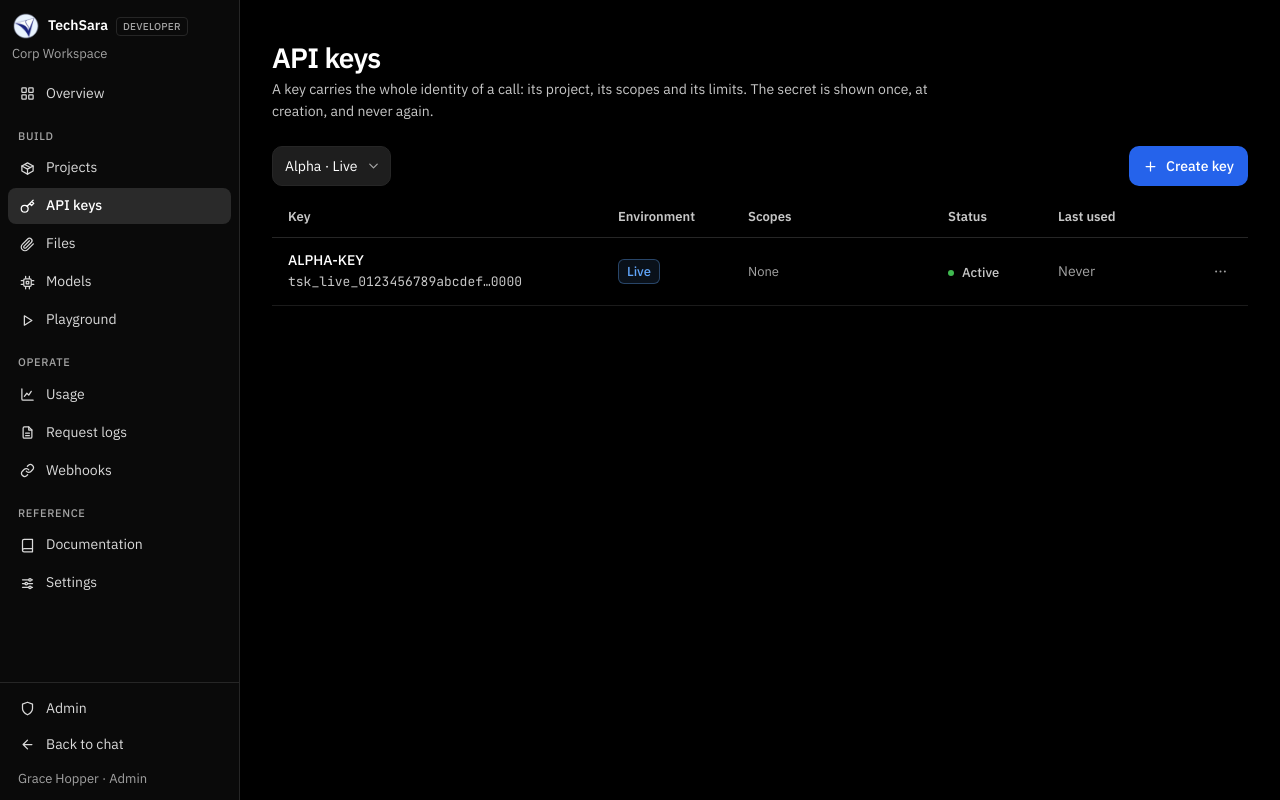
Test: a project-scoped panel after the project changes › never shows the previous project's keys under the new project's name
expect the text "ALPHA-KEY" is shown: met, box x1=288 y1=251 x2=364 y2=269
Step 1. Select "Bravo · Live" in the dropdown named "Project" → (332,166), box x1=272 y1=146 x2=391 y2=186
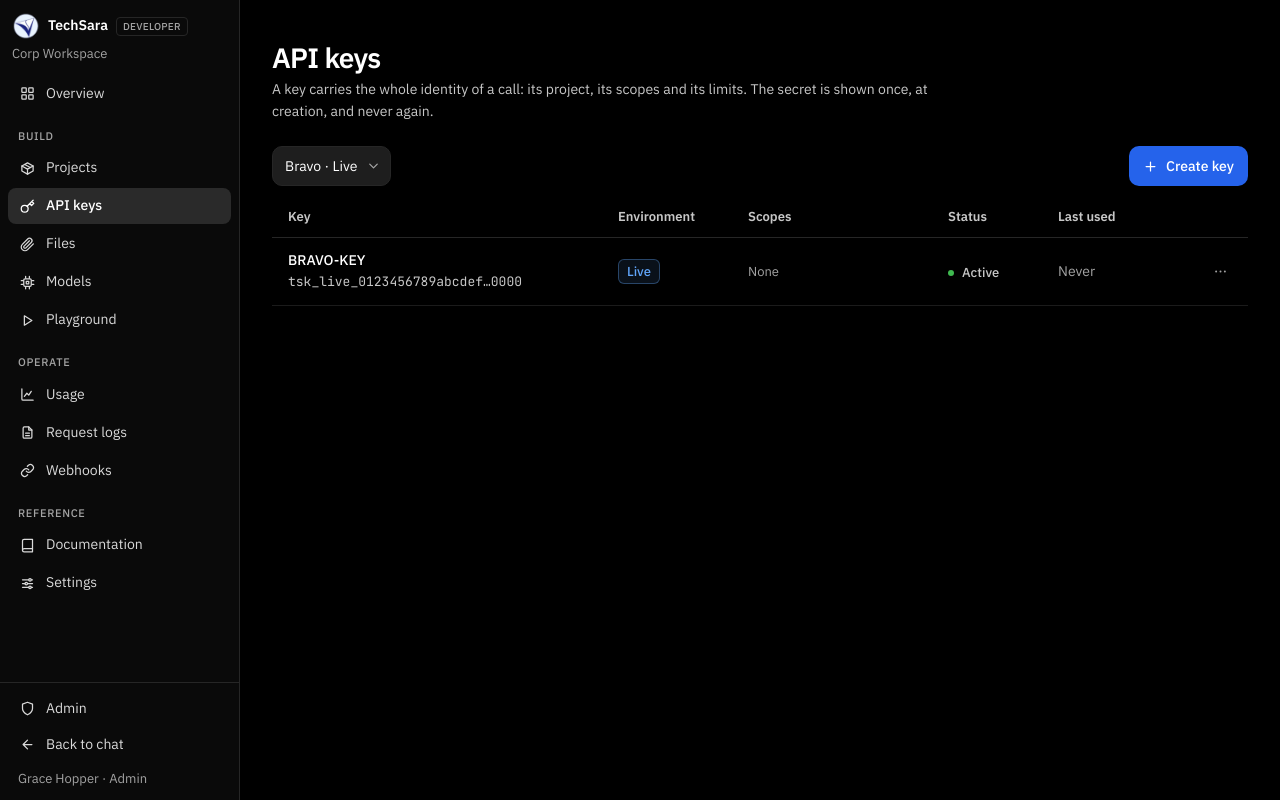
expect the text "BRAVO-KEY" is shown: met, box x1=288 y1=251 x2=365 y2=269
expect the text "ALPHA-KEY" is gone: met
